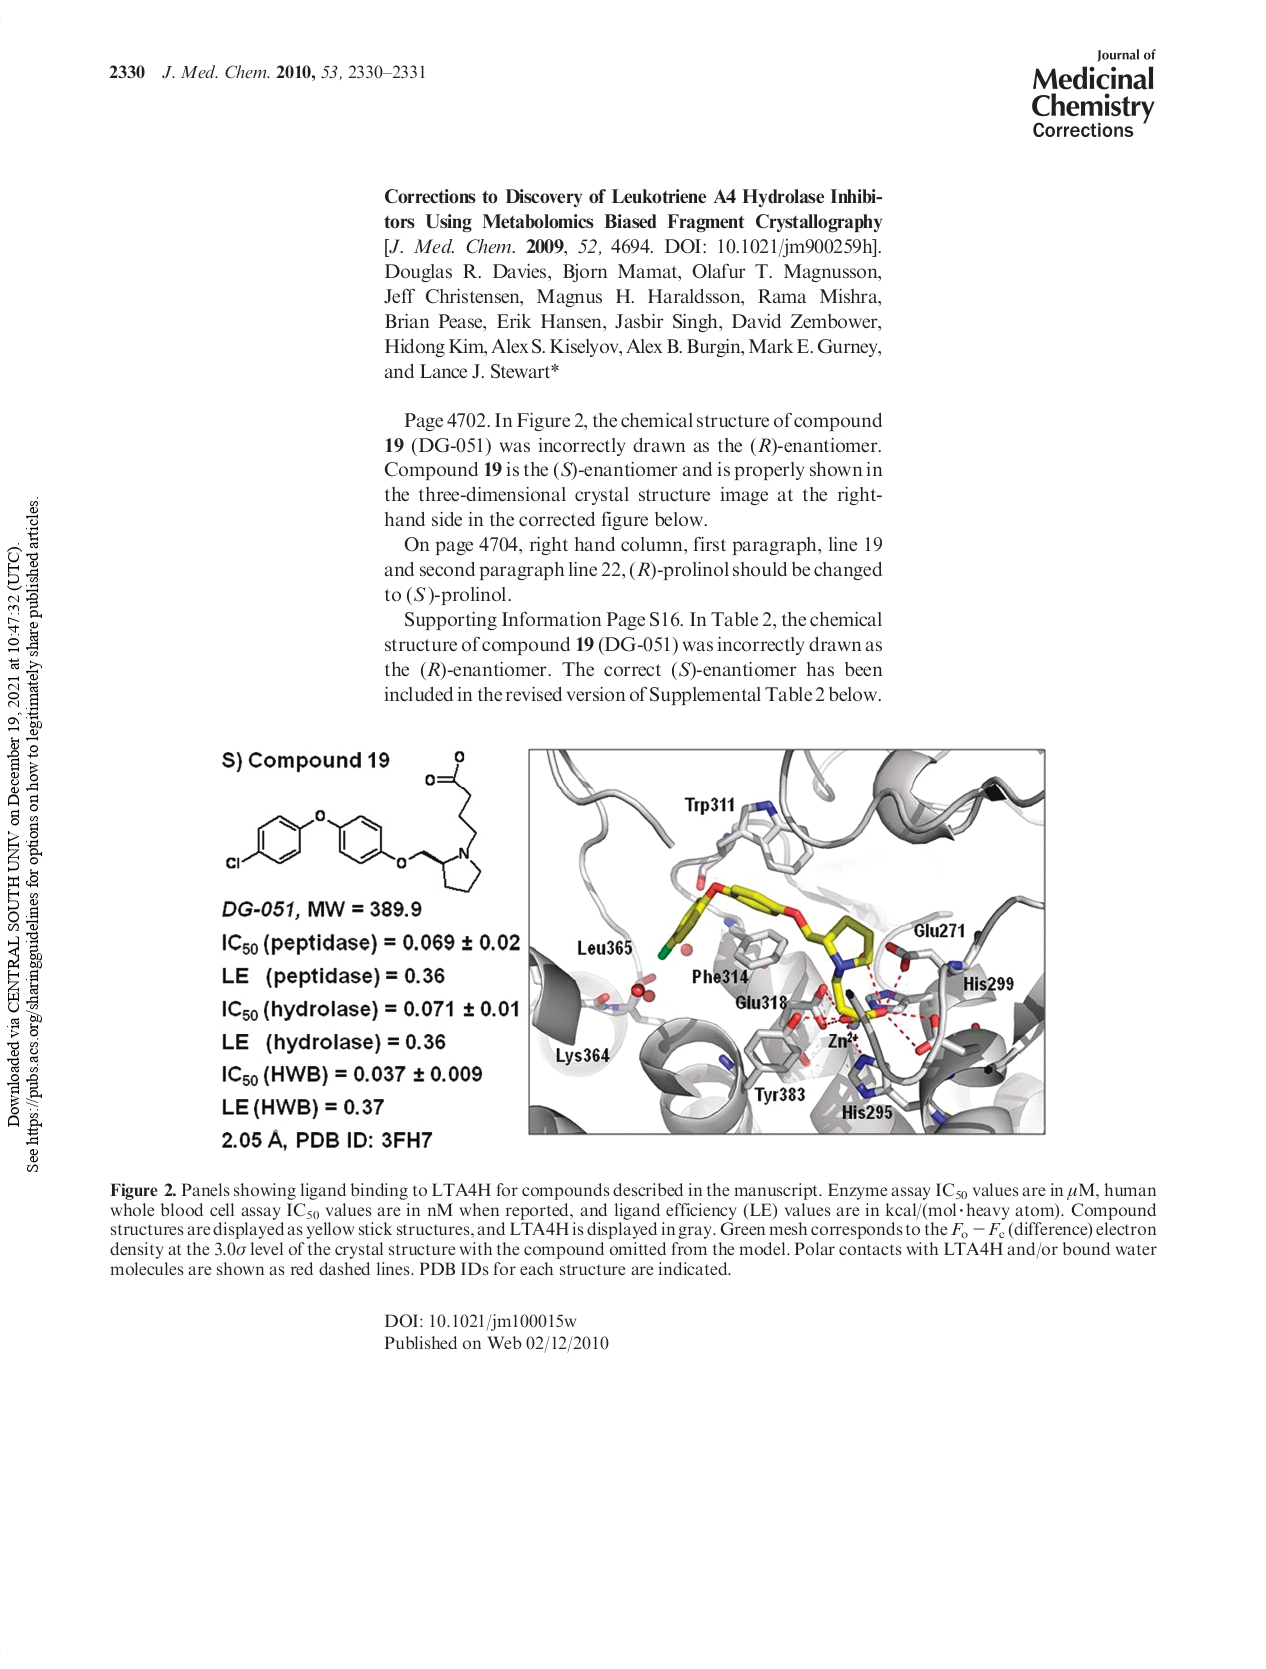exist_molecular: (223, 746, 481, 892)
